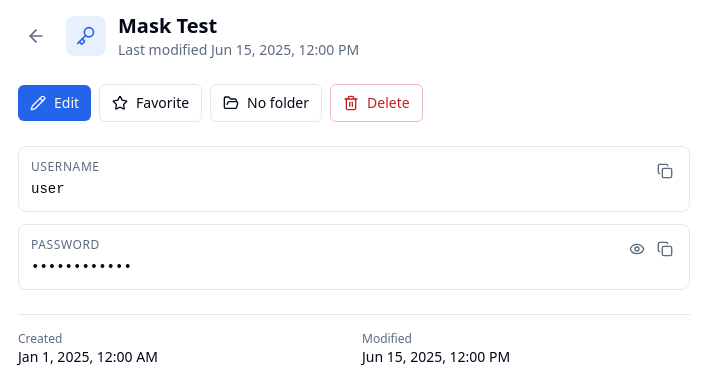
Test: VaultItemDetail › Field masking › password field is masked by default and can be revealed
The image size is (707, 383).
Expected: the text "mysecretpass" is not shown
# Click reveal
Click the button named "Reveal value".
click(637, 249)  # box [625, 237, 649, 261]
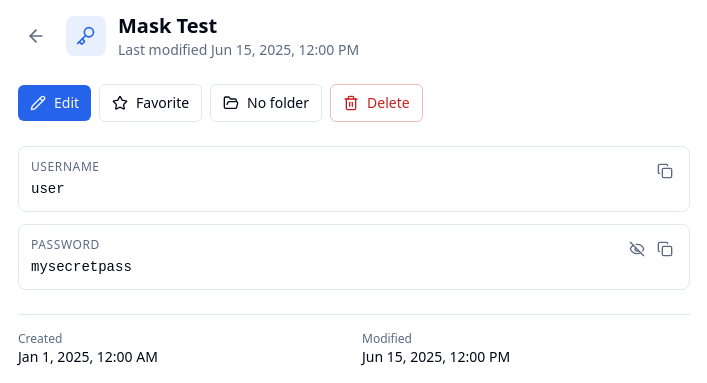
Now the text "mysecretpass" is shown, box [31, 259, 132, 275]
